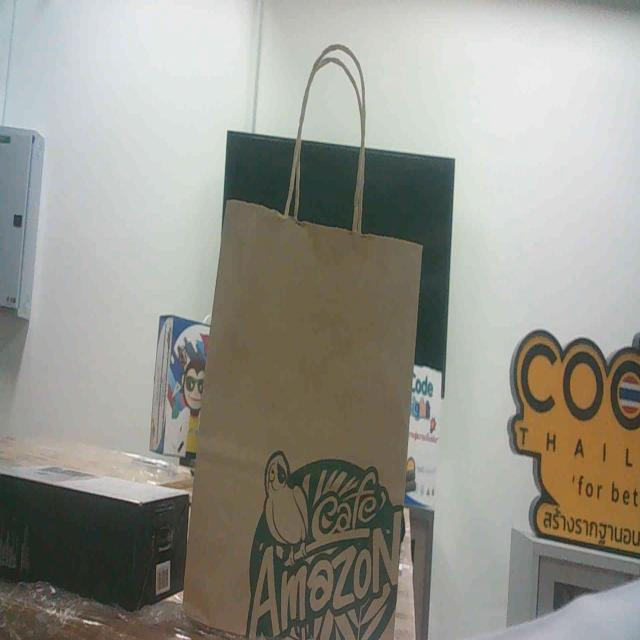bag: (196, 143, 439, 640)
